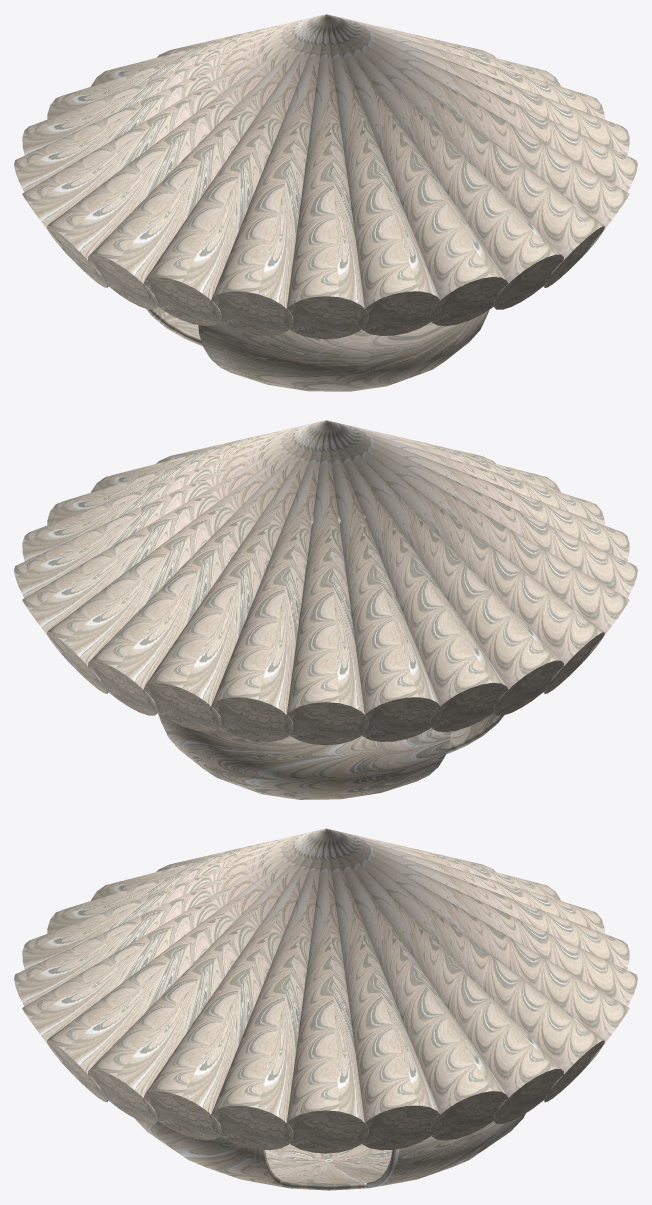
File: cabin-cream.fbx
The picture shows the model from 3 angles, top to bottom: view 1: azimuth 30°, elevation 25°; view 2: azimuth 150°, elevation 25°; view 3: azimuth 270°, elevation 25°; orthographic projection.
Visible parts, largest first — view 1: polySurface1; view 2: polySurface1; view 3: polySurface1.
Boxes of the visible parts, box(x1,y1,x2,y2) form: polySurface1: box(14, 14, 637, 391); polySurface1: box(14, 420, 637, 799); polySurface1: box(14, 828, 637, 1190).
Size of the model in its own units: 0.9249 by 0.5619 by 0.9249.
